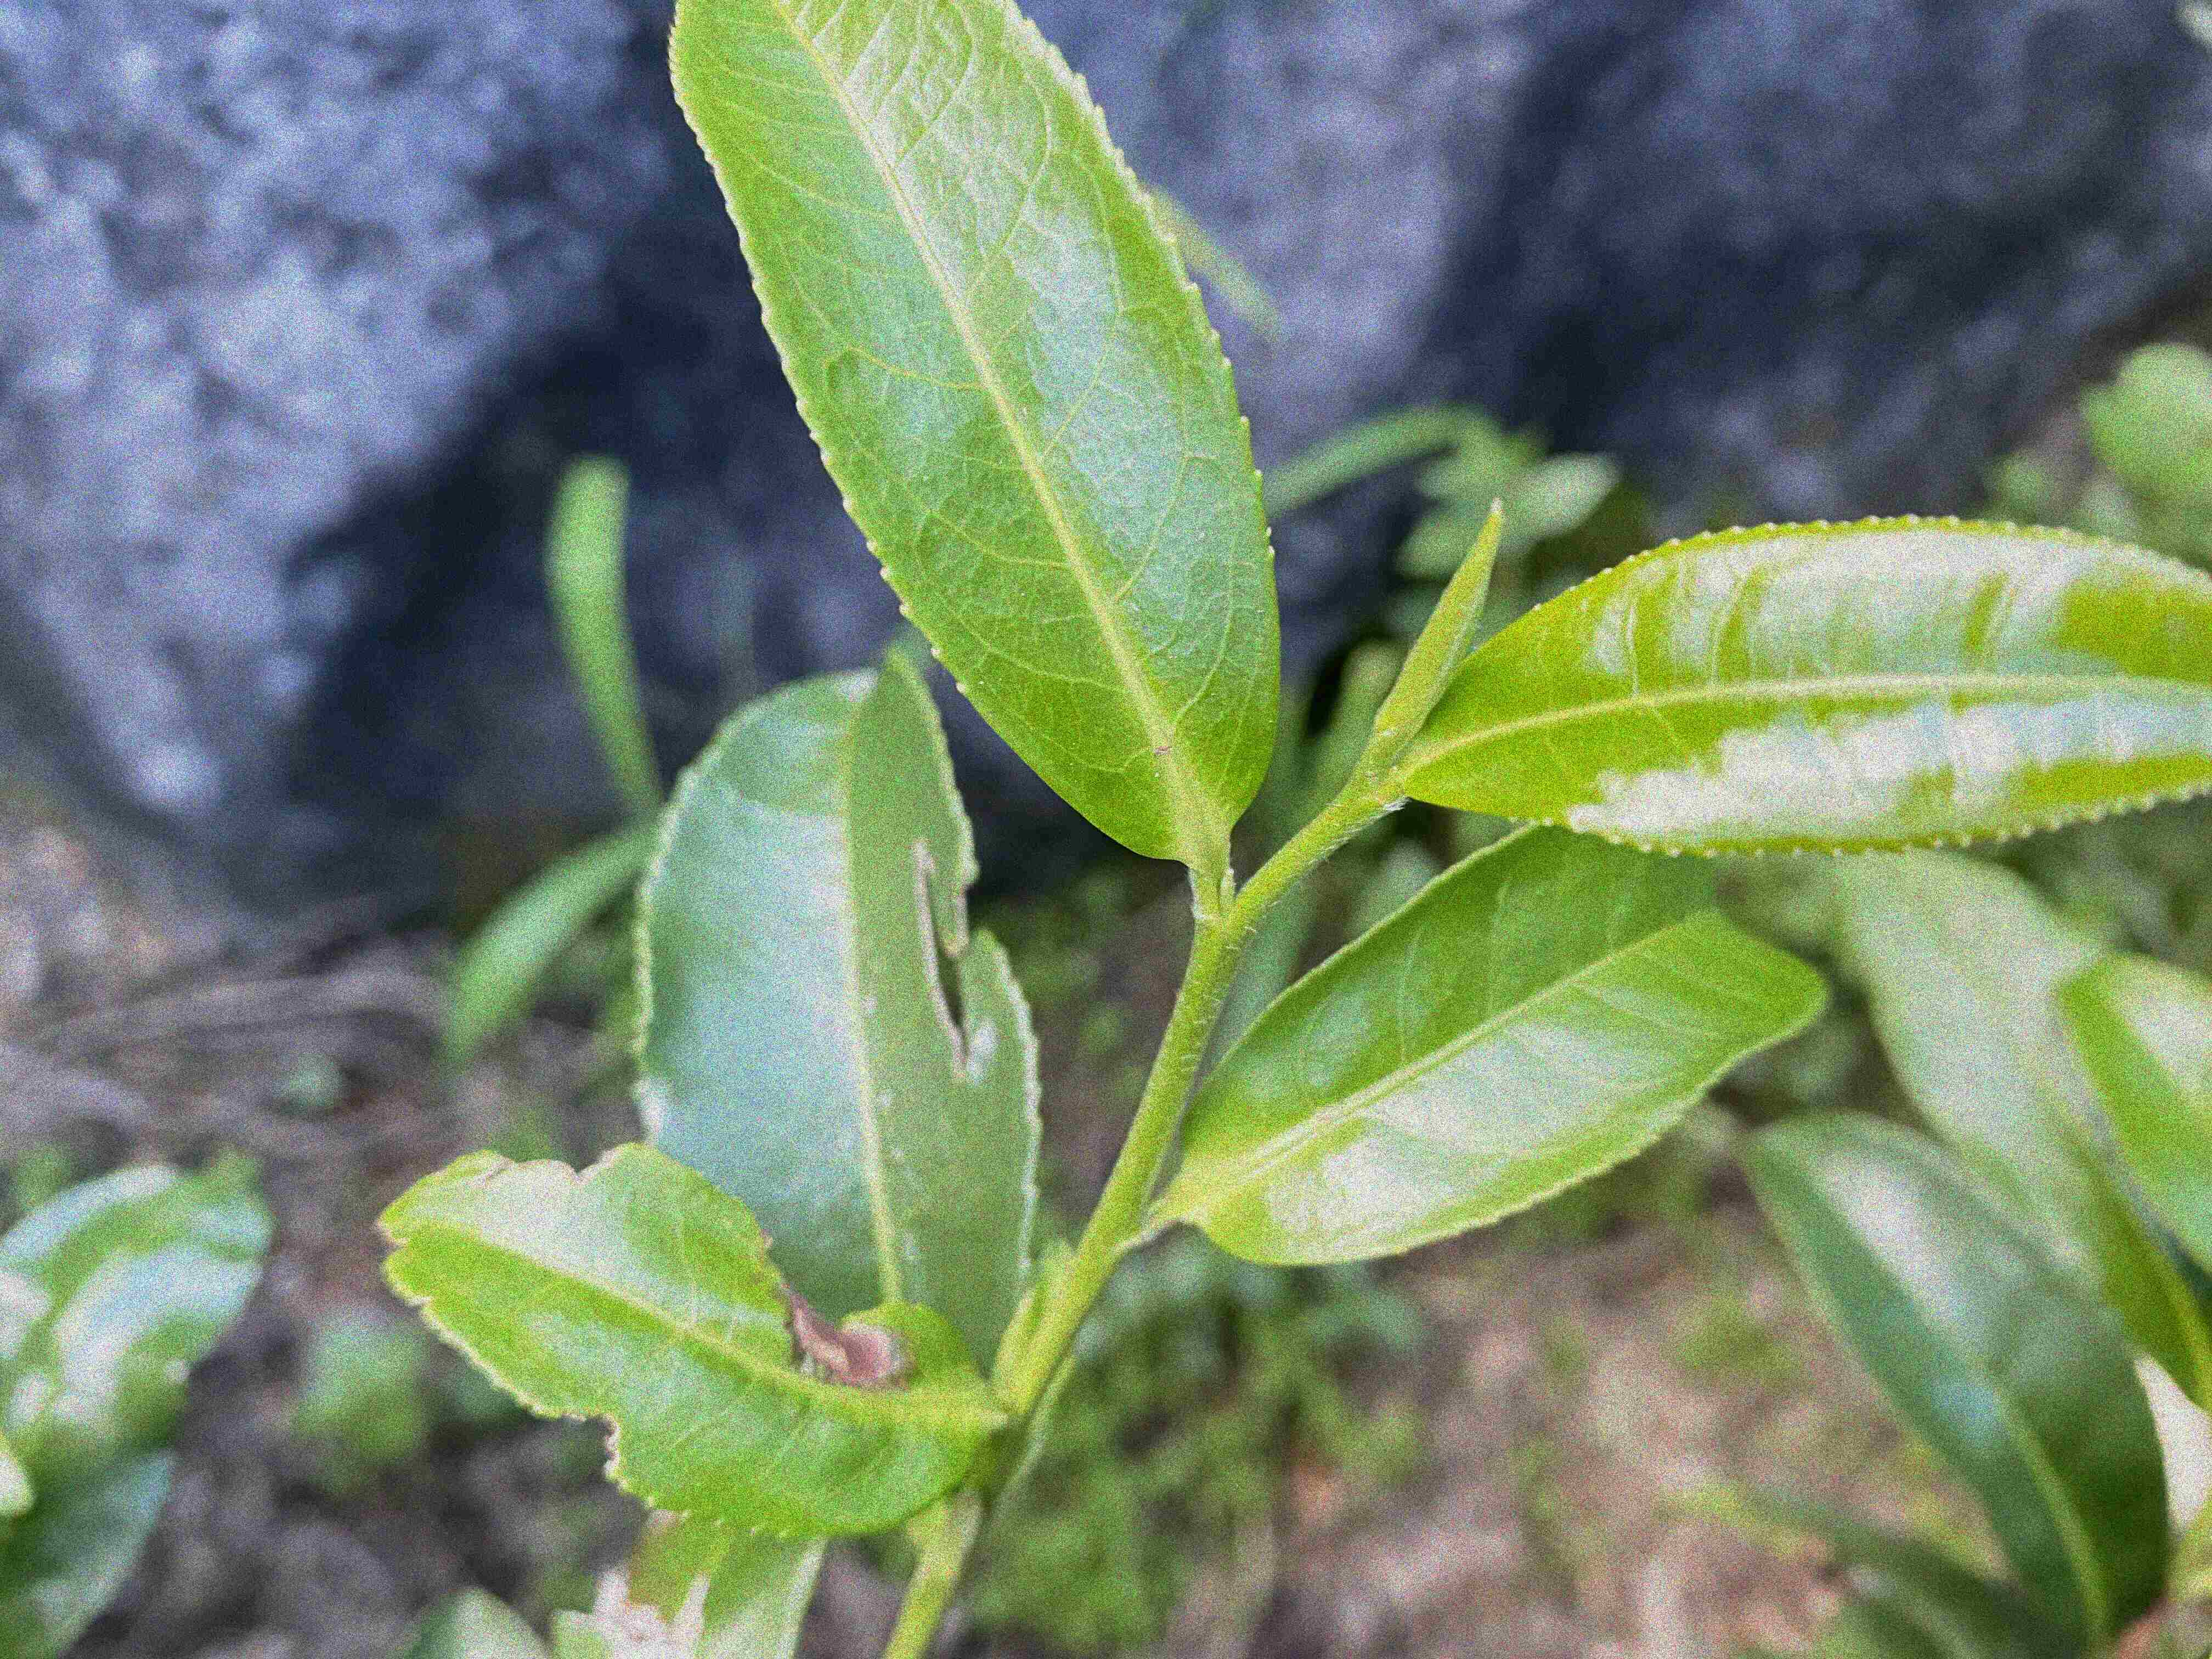chihuo_high: (617, 647, 1042, 1230)
healthy: (660, 2, 1284, 864), (1176, 819, 1829, 1267), (1402, 511, 2212, 861)
tanju_high: (374, 1136, 991, 1541)
